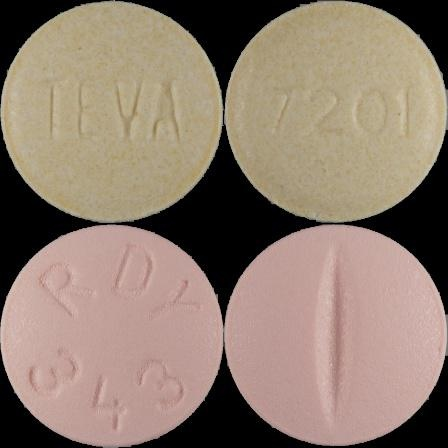66116-346: (0, 0, 224, 224)
